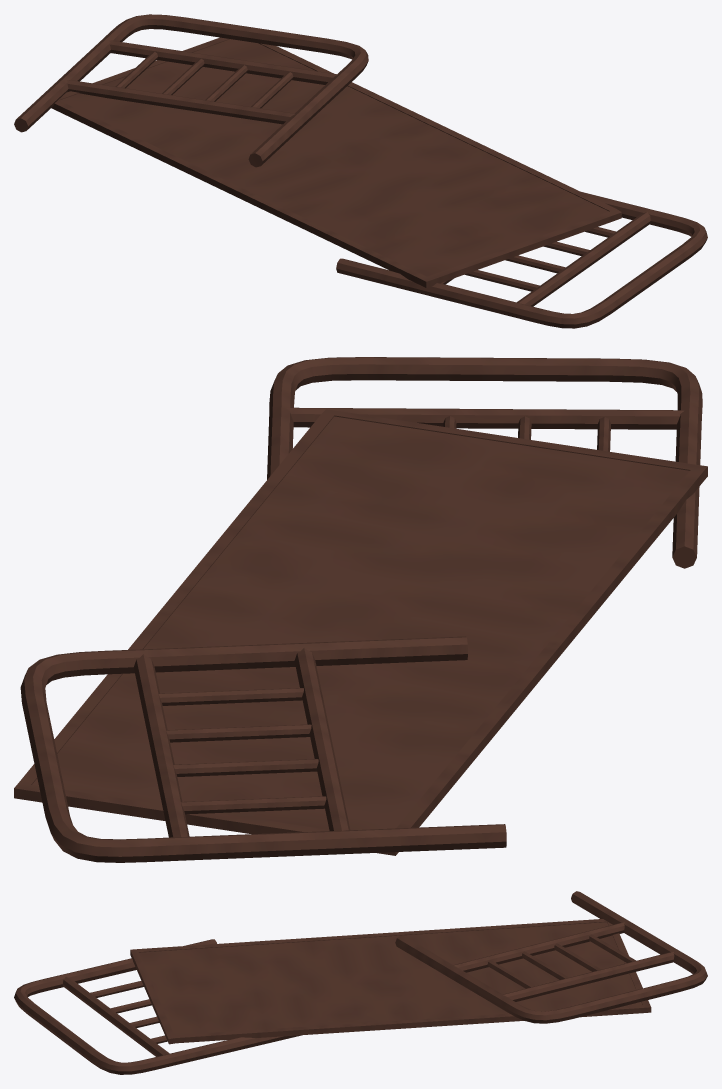
File: BrokenBed1.fbx
3 renders of one model, top to bottom at view 1: azimuth 30°, elevation 25°; view 2: azimuth 150°, elevation 25°; view 3: azimuth 270°, elevation 25°, orthographic. The views are drawn at different scales.
Parts seen in each view (by area): view 1: Cube.022; view 2: Cube.022; view 3: Cube.022.
Part boxes in pixels (x1,y1,x2,y2): Cube.022: (14, 14, 707, 328); Cube.022: (14, 357, 707, 862); Cube.022: (14, 891, 707, 1074).
Size of the model in its own units: 240 by 17.52 by 415.
